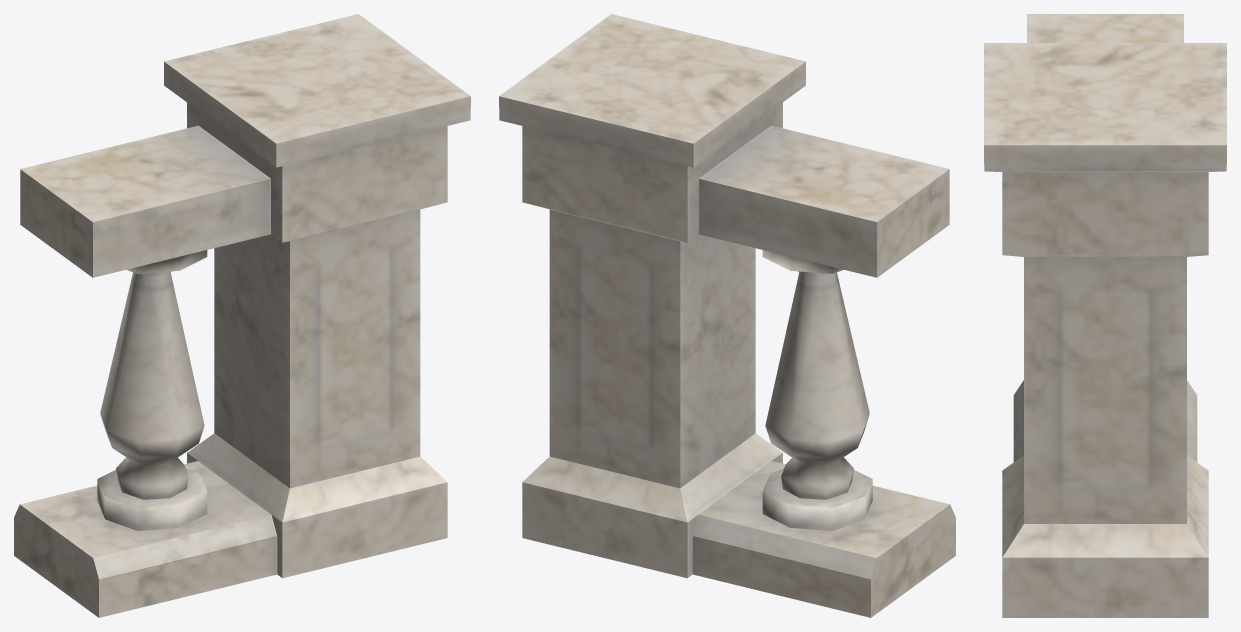
Rendered from EP1_StoneHandRail_edge.fbx.
3 views of the same model, side by side, from view 1: azimuth 30°, elevation 25°; view 2: azimuth 150°, elevation 25°; view 3: azimuth 270°, elevation 25° (orthographic). The views are drawn at different scales.
Visible parts, largest first — view 1: EP1_StoneHandRail_edge; view 2: EP1_StoneHandRail_edge; view 3: EP1_StoneHandRail_edge.
Boxes of the visible parts, left/top/right/bottom form: EP1_StoneHandRail_edge: left=14, top=14, right=470, bottom=617; EP1_StoneHandRail_edge: left=499, top=14, right=955, bottom=617; EP1_StoneHandRail_edge: left=984, top=14, right=1226, bottom=617.
Bounding box in the file's own units: 0.6865 × 0.8139 × 0.373.
1 material, 1 textured.
